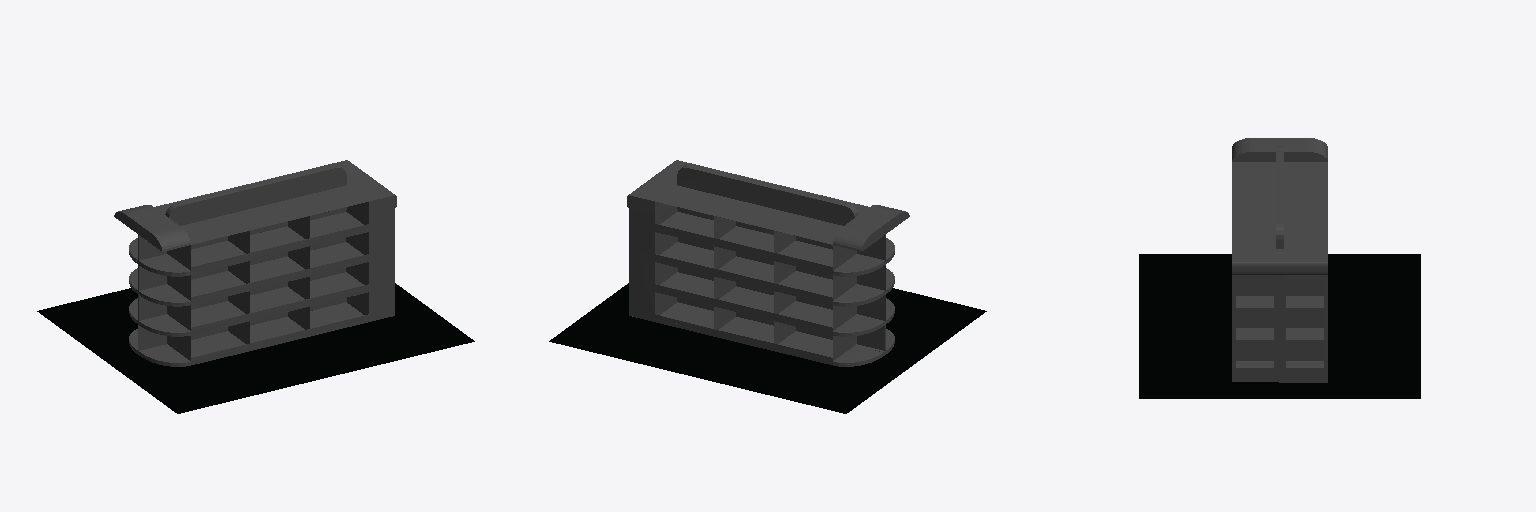
Rendered from Armazon12ColorGrises.obj.
The picture shows the model from 3 angles: view 1: azimuth 30°, elevation 25°; view 2: azimuth 150°, elevation 25°; view 3: azimuth 270°, elevation 25°; orthographic projection.
Visible parts, largest first — view 1: Plane, Plane.001; view 2: Plane, Plane.001; view 3: Plane.001, Plane.
Part boxes in pixels (x1,y1,x2,y2): Plane: (114,160,396,366); Plane.001: (37,283,474,413); Plane: (627,160,909,366); Plane.001: (549,283,986,413); Plane.001: (1139,254,1420,398); Plane: (1232,138,1327,382).
Bounding box in the file's own units: 31.04 × 14.04 × 25.46.